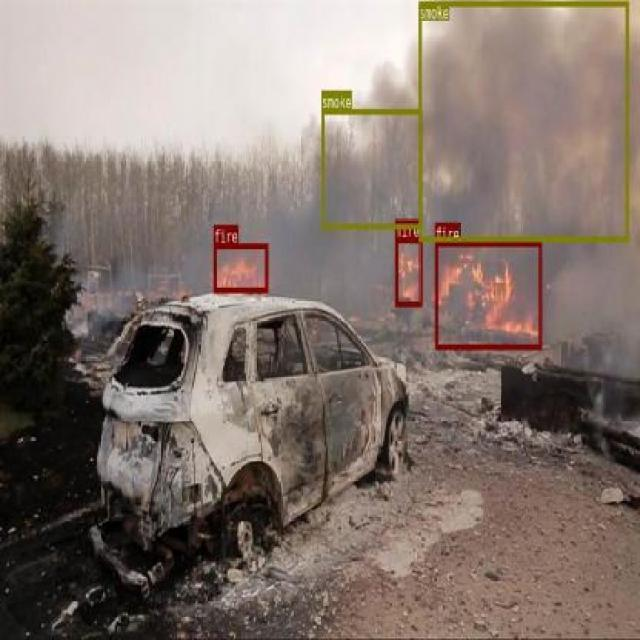Smoke: (421, 1, 625, 241), (320, 44, 422, 164)
